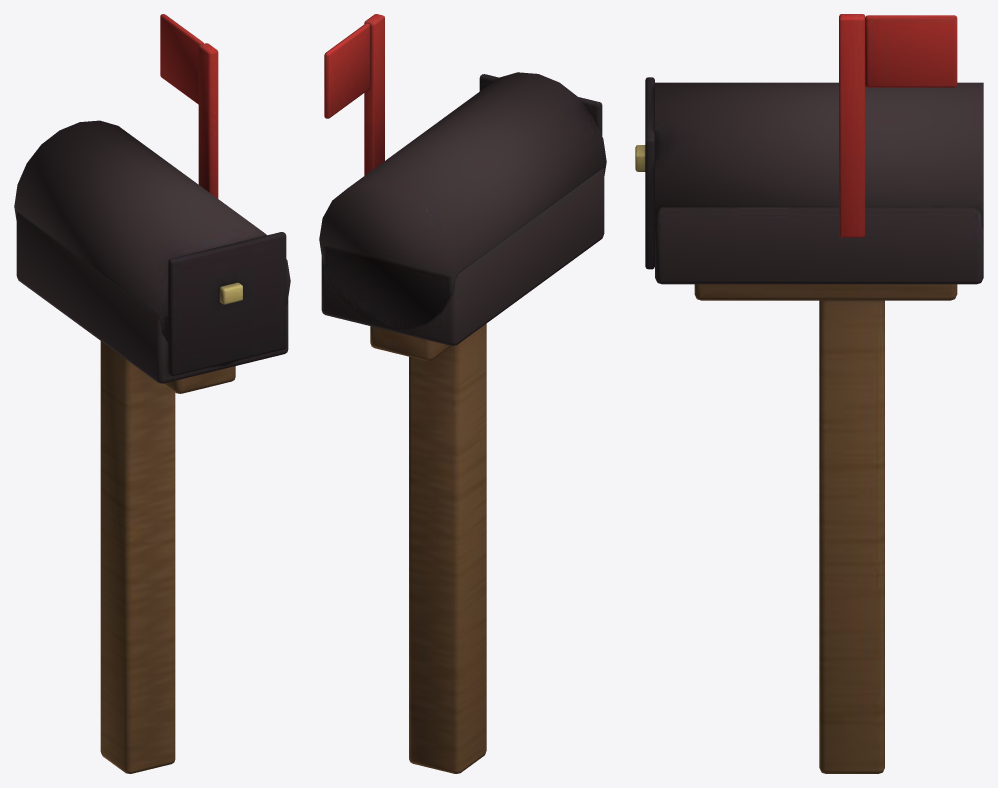
The model's file is mailbox_black.glb.
3 views of the same model, side by side, from view 1: azimuth 30°, elevation 25°; view 2: azimuth 150°, elevation 25°; view 3: azimuth 270°, elevation 25° (orthographic). The views are drawn at different scales.
Visible parts, largest first — view 1: mailbox_black, mailbox_black_flag; view 2: mailbox_black, mailbox_black_flag; view 3: mailbox_black, mailbox_black_flag.
Boxes of the visible parts, <box> form: mailbox_black: <box>14,120,290,773</box>; mailbox_black_flag: <box>160,14,218,198</box>; mailbox_black: <box>319,72,606,773</box>; mailbox_black_flag: <box>324,14,384,175</box>; mailbox_black: <box>635,77,983,773</box>; mailbox_black_flag: <box>839,14,957,237</box>.
Size of the model in its own units: 0.28 by 1.32 by 0.53.
Materials: 5 (5 with a texture image).
